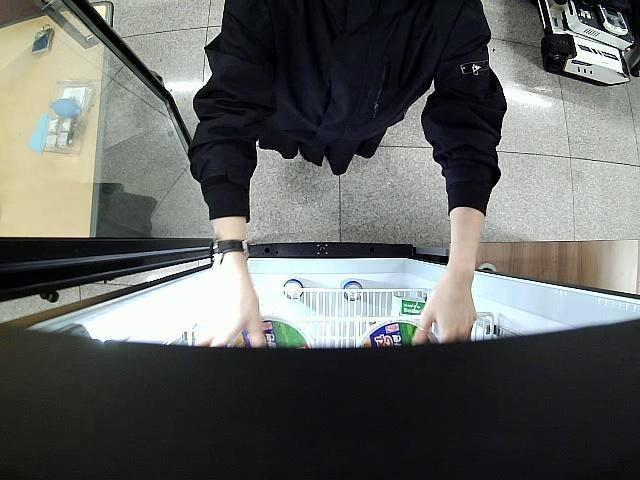09_yukGaeJang: (230, 316, 315, 350), (353, 320, 438, 348)
